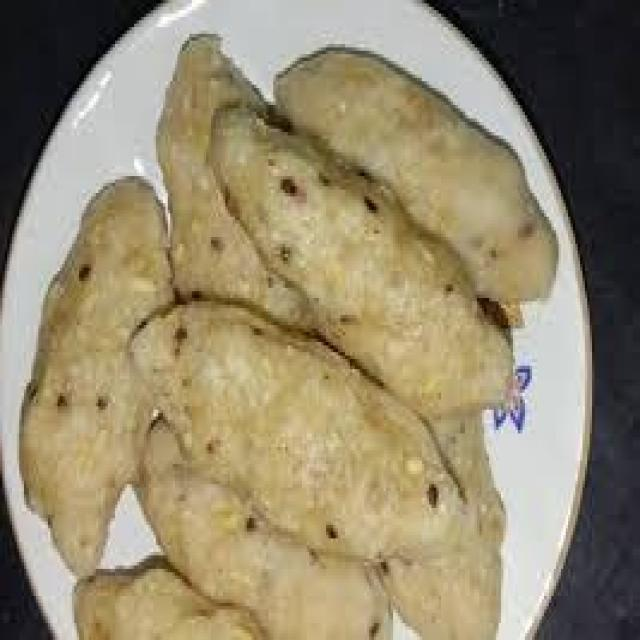pidi kolukattai: (11, 30, 549, 640)
